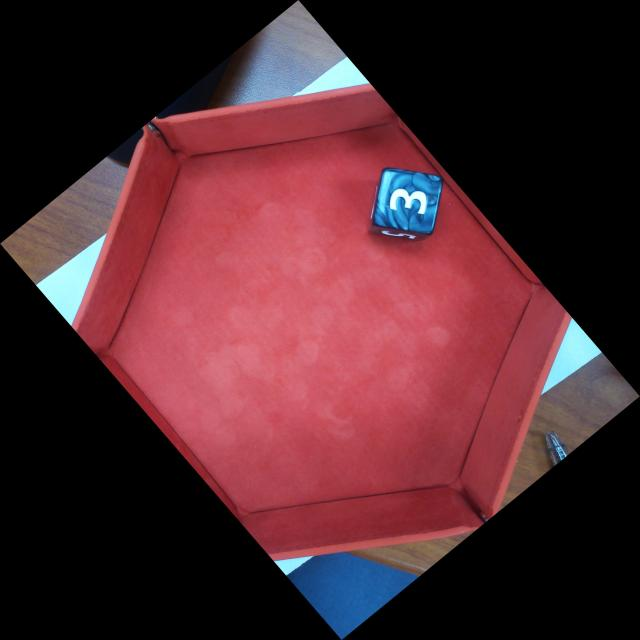dice: (370, 166, 445, 237)
